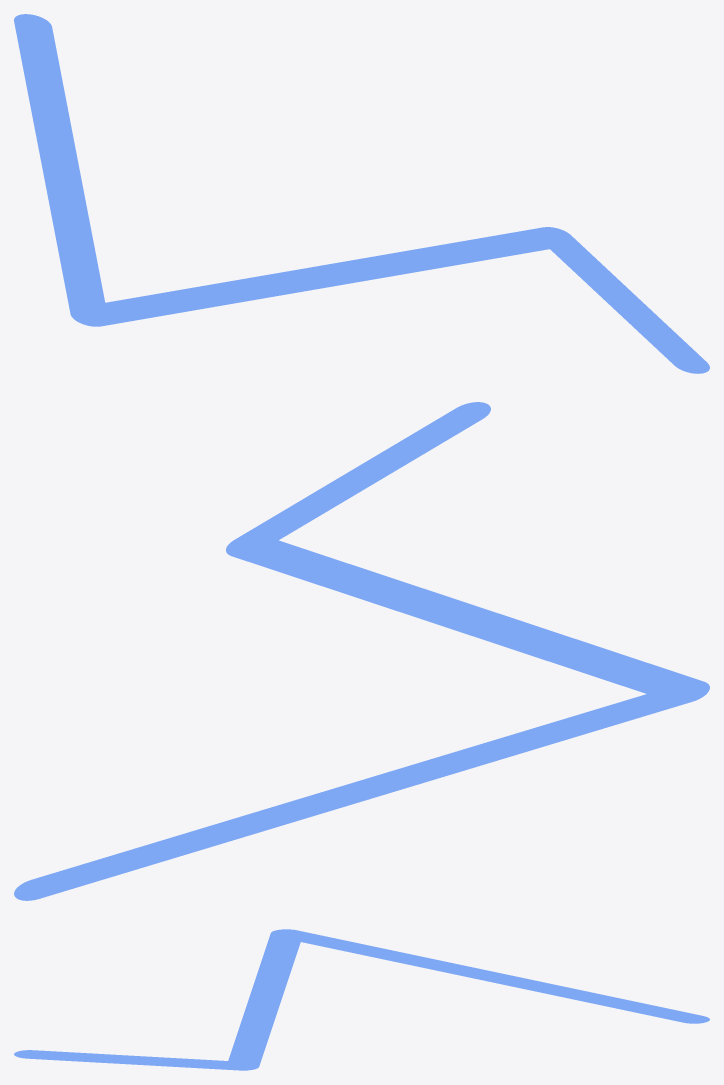
Rendered from lavant-path-test.gltf.
3 renders of one model, top to bottom at view 1: azimuth 30°, elevation 25°; view 2: azimuth 150°, elevation 25°; view 3: azimuth 270°, elevation 25°, orthographic. The views are drawn at different scales.
Parts seen in each view (by area): view 1: route; view 2: route; view 3: route.
Part boxes in pixels (x1,y1,x2,y2): route: (14, 14, 709, 373); route: (14, 402, 709, 900); route: (14, 929, 709, 1070).
Size of what is drawn, in the model's own units: 5.08 by 0.1139 by 10.55.
